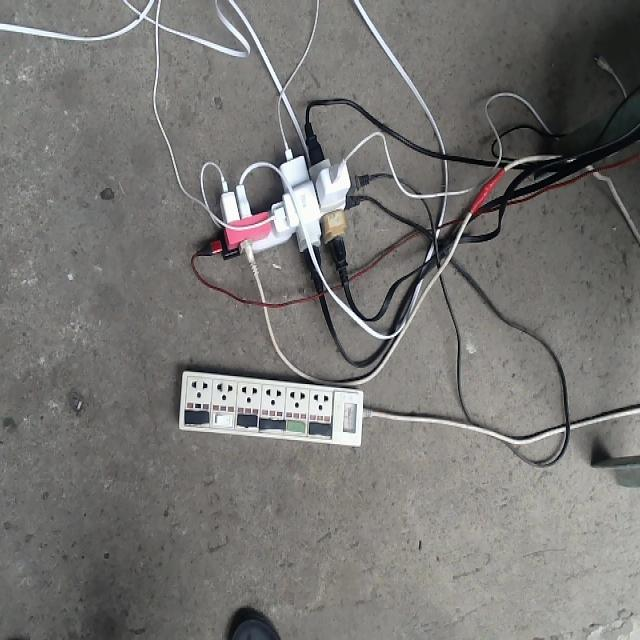-: (193, 120, 370, 296)
